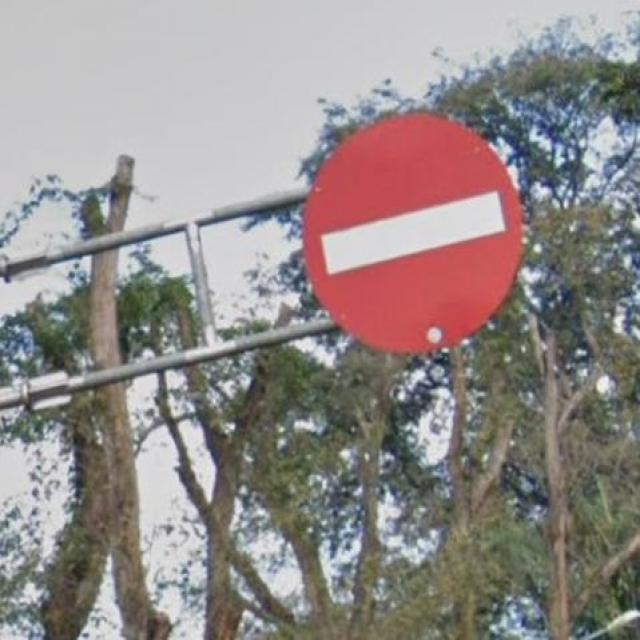traffic sign: (303, 116, 516, 348)
